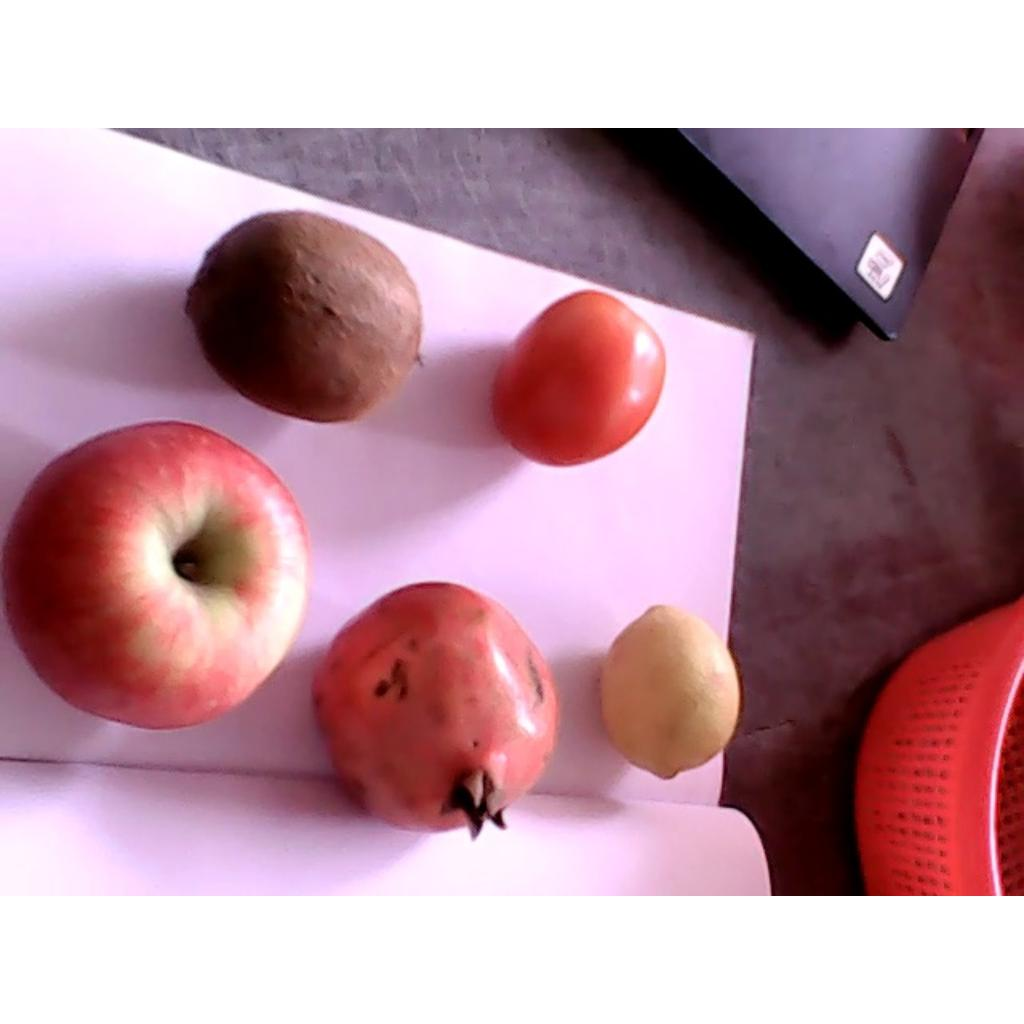kiwi: (184, 207, 424, 421)
pomegranate: (310, 581, 557, 839), (601, 603, 739, 779)
tomato: (490, 290, 665, 463)
